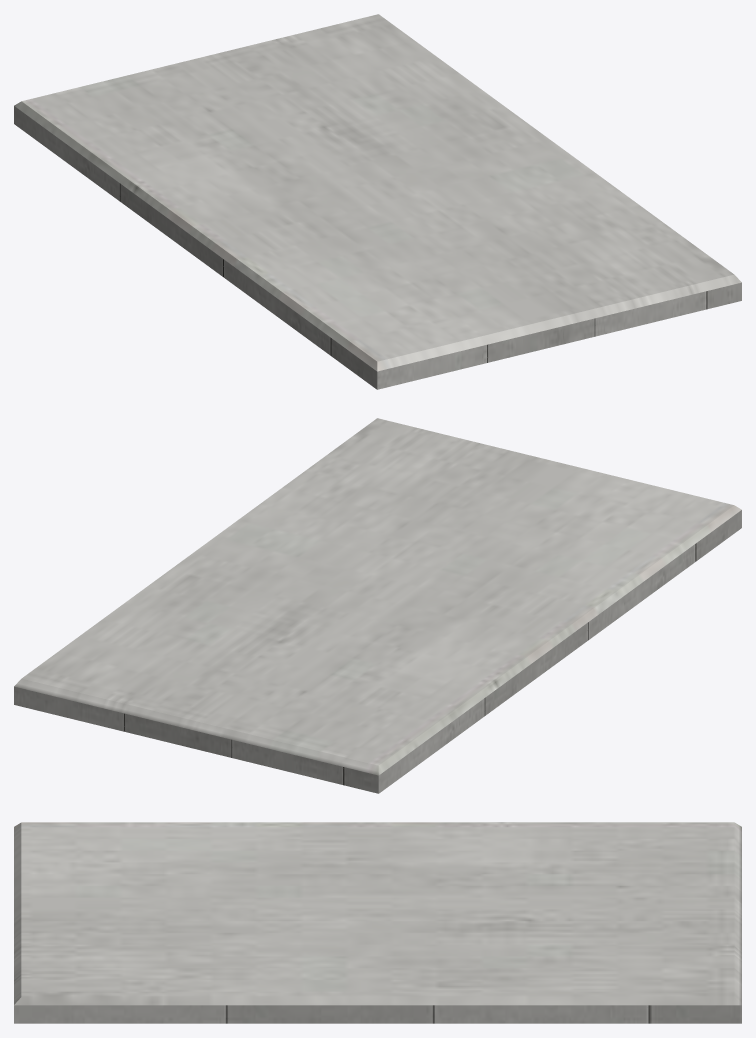
Rendered from SidewalkPAD.fbx.
The picture shows the model from 3 angles, top to bottom: view 1: azimuth 30°, elevation 25°; view 2: azimuth 150°, elevation 25°; view 3: azimuth 270°, elevation 25°; orthographic projection.
Parts seen in each view (by area): view 1: istockphoto-499569217-612x612; view 2: istockphoto-499569217-612x612; view 3: istockphoto-499569217-612x612.
Part boxes in pixels (box(x1,y1,x2,y2)): istockphoto-499569217-612x612: box(14, 14, 741, 389); istockphoto-499569217-612x612: box(14, 418, 741, 793); istockphoto-499569217-612x612: box(14, 822, 741, 1023).
Size of the model in its own units: 39.01 by 2.51 by 67.26.
1 material, 1 textured.
